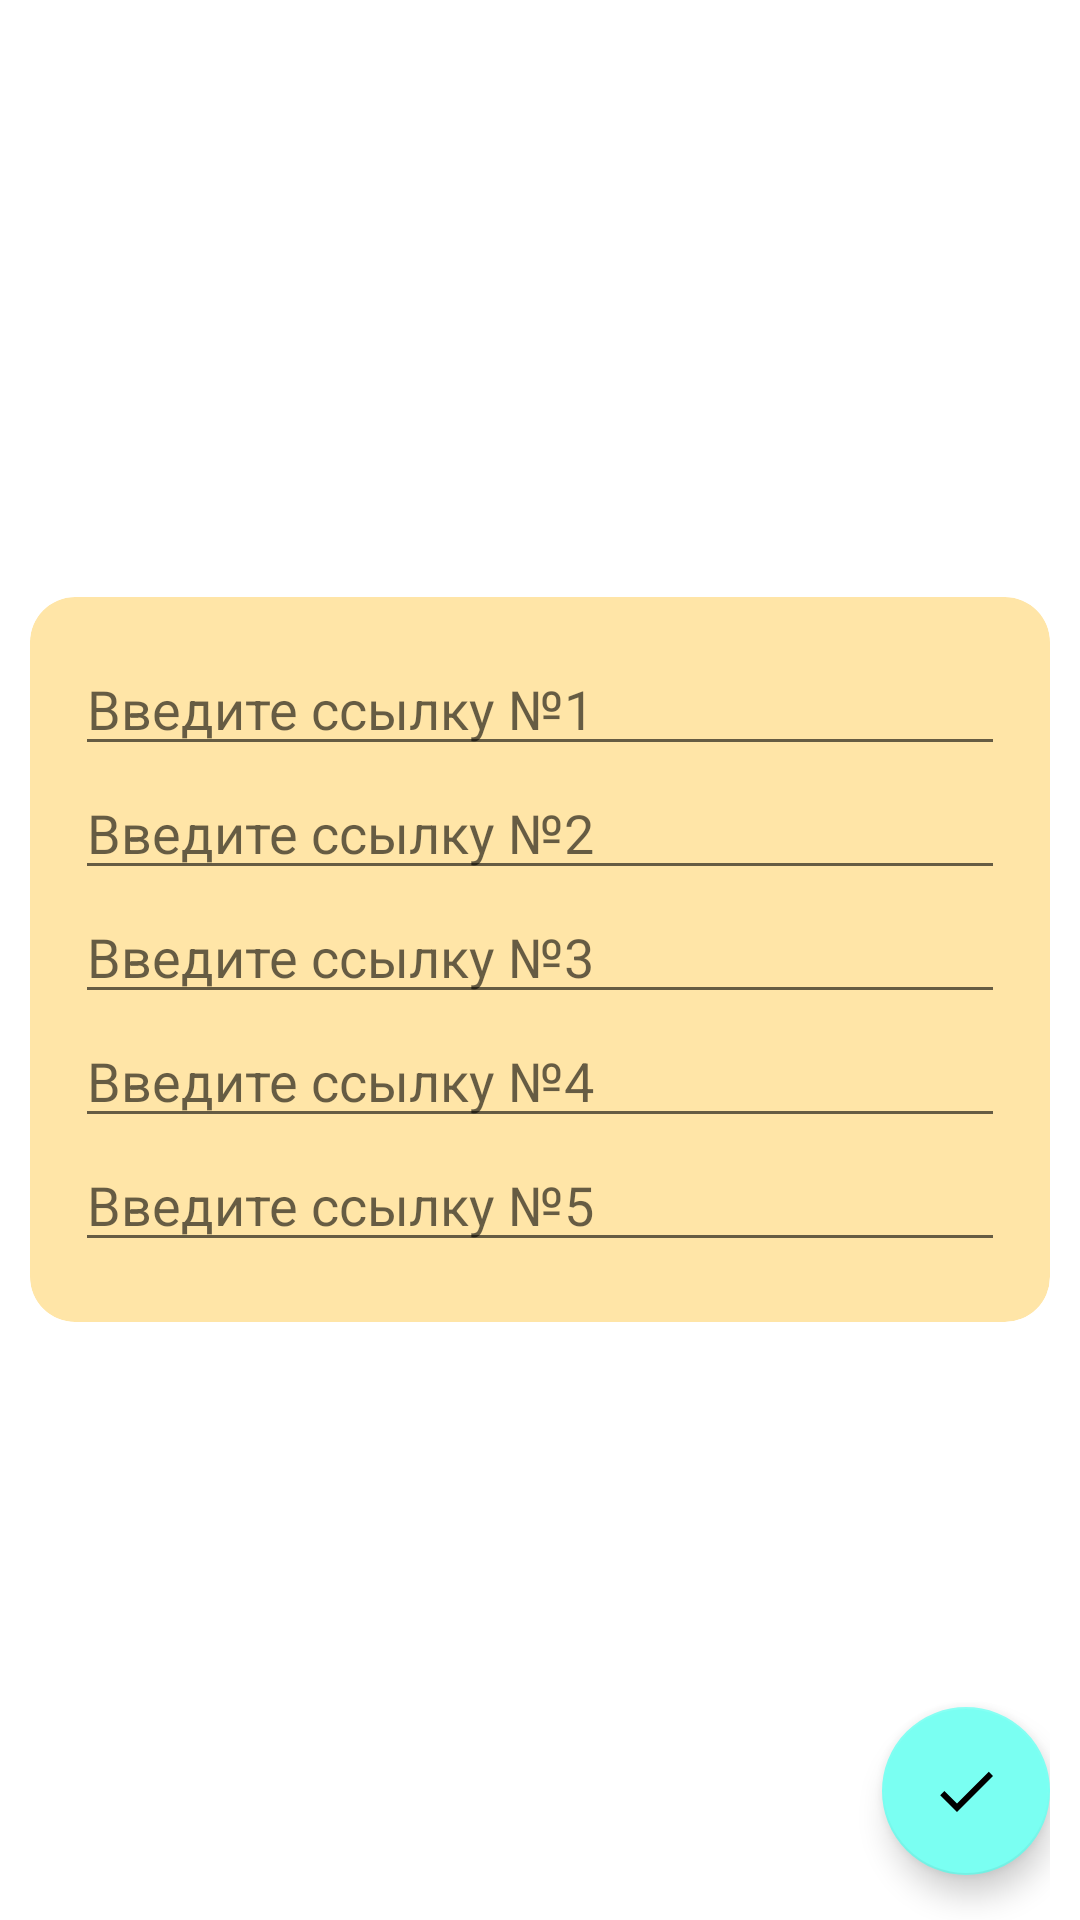

Icons on this 1080 x 1920 Android screen, each with its box as [x1,y1,x2,y2]:
done: [882,1707,1050,1875]
